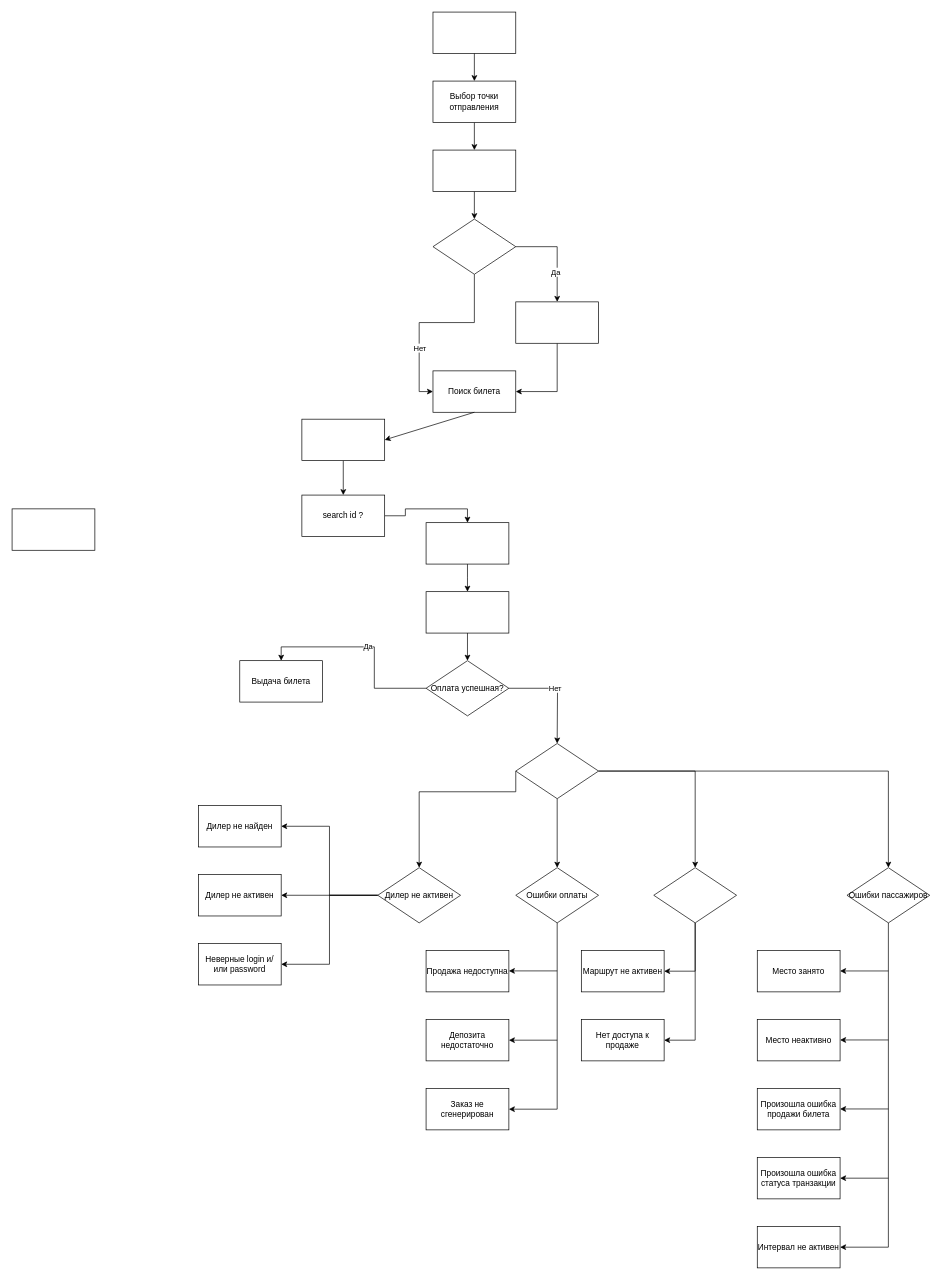
The diagram is 942 pixels wide and 1280 high, and some of its shapes have lost their labels. The box of each missing label's shape, as (x1, y1, x2, y2) in pixels:
Выбор билета: (425, 591, 509, 633)
Выбор точки назанчения: (432, 149, 516, 191)
Выдача результата: (425, 522, 509, 564)
Добавление даты обратного рейса: (515, 301, 599, 343)
Нужен ли обратный билет?: (432, 218, 516, 274)
Ошибки в рейсах: (653, 867, 737, 923)
Поиск рейсов по интервалу: (301, 418, 385, 461)
Покупка билета: (432, 11, 516, 53)
тест 12345: (11, 508, 95, 550)
Тип ошибки: (515, 743, 599, 799)
